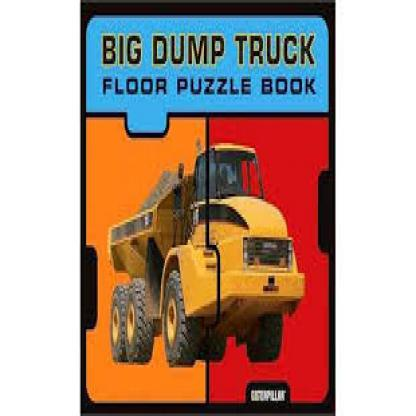dump_truck: (100, 130, 304, 362)
